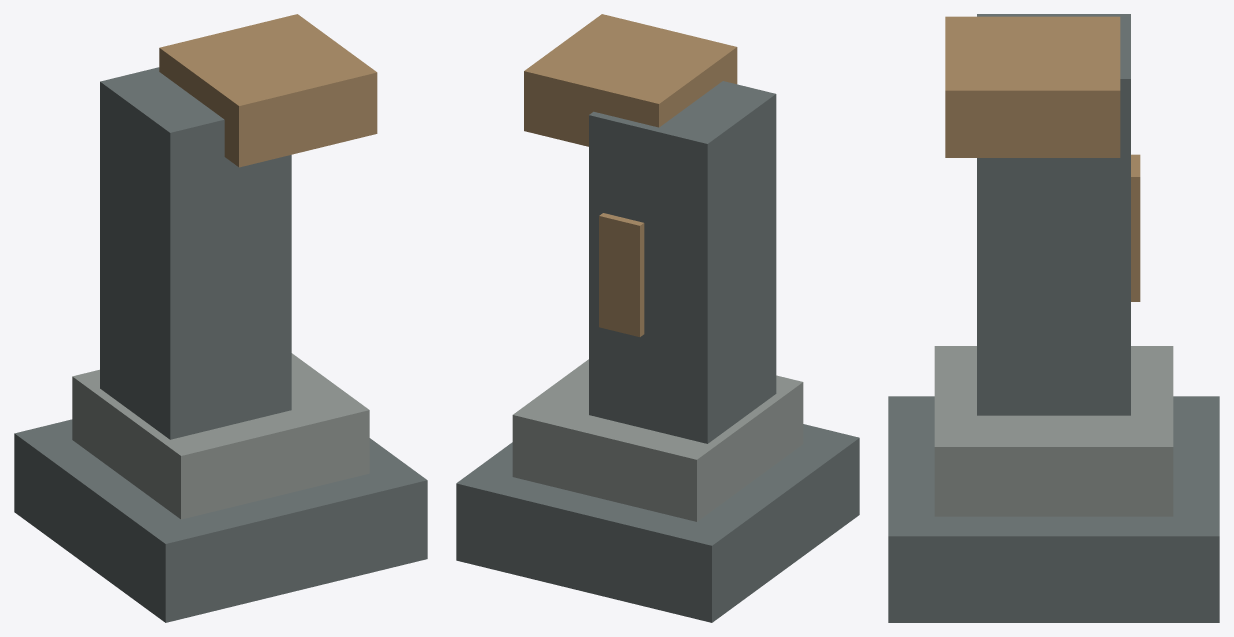
File: lantern_array_pillar_spent.glb
3 views of the same model, side by side, from view 1: azimuth 30°, elevation 25°; view 2: azimuth 150°, elevation 25°; view 3: azimuth 270°, elevation 25° (orthographic). The views are drawn at different scales.
Visible parts, largest first — view 1: lantern_array_pillar_spent; view 2: lantern_array_pillar_spent; view 3: lantern_array_pillar_spent.
Boxes of the visible parts, x1=… form: lantern_array_pillar_spent: x1=14, y1=14, x2=427, y2=622; lantern_array_pillar_spent: x1=456, y1=14, x2=859, y2=622; lantern_array_pillar_spent: x1=888, y1=14, x2=1219, y2=622.
Bounding box in the file's own units: 1.25 × 2.16 × 1.25.
Materials: 3 (3 with a texture image).
